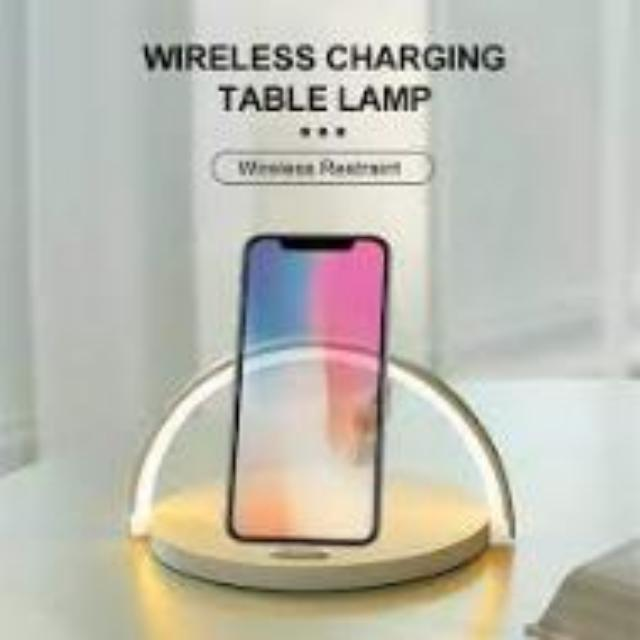phone: (238, 225, 382, 554)
